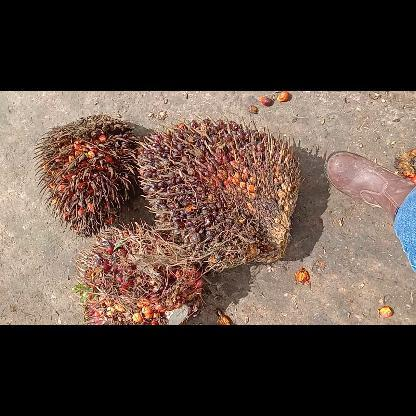Kurang masak: (138, 118, 302, 270)
TBS masak: (82, 228, 202, 324)
Terlalu masak: (36, 114, 138, 236)
